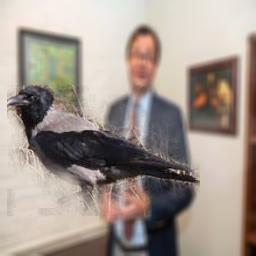Crow: (7, 85, 200, 216)
